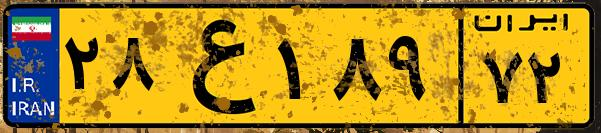1: (270, 28, 330, 110)
2: (57, 26, 110, 100), (525, 38, 570, 115)
7: (475, 38, 525, 113)
8: (330, 28, 385, 110), (110, 28, 158, 98)
9: (385, 28, 445, 110)
ع: (158, 12, 270, 120)
